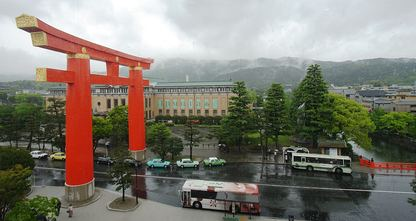bus: (180, 180, 262, 215), (292, 151, 352, 173)
car: (146, 156, 171, 168), (202, 156, 226, 168), (120, 155, 142, 167), (96, 155, 115, 166), (49, 150, 67, 161), (177, 160, 199, 168), (27, 150, 46, 159)
